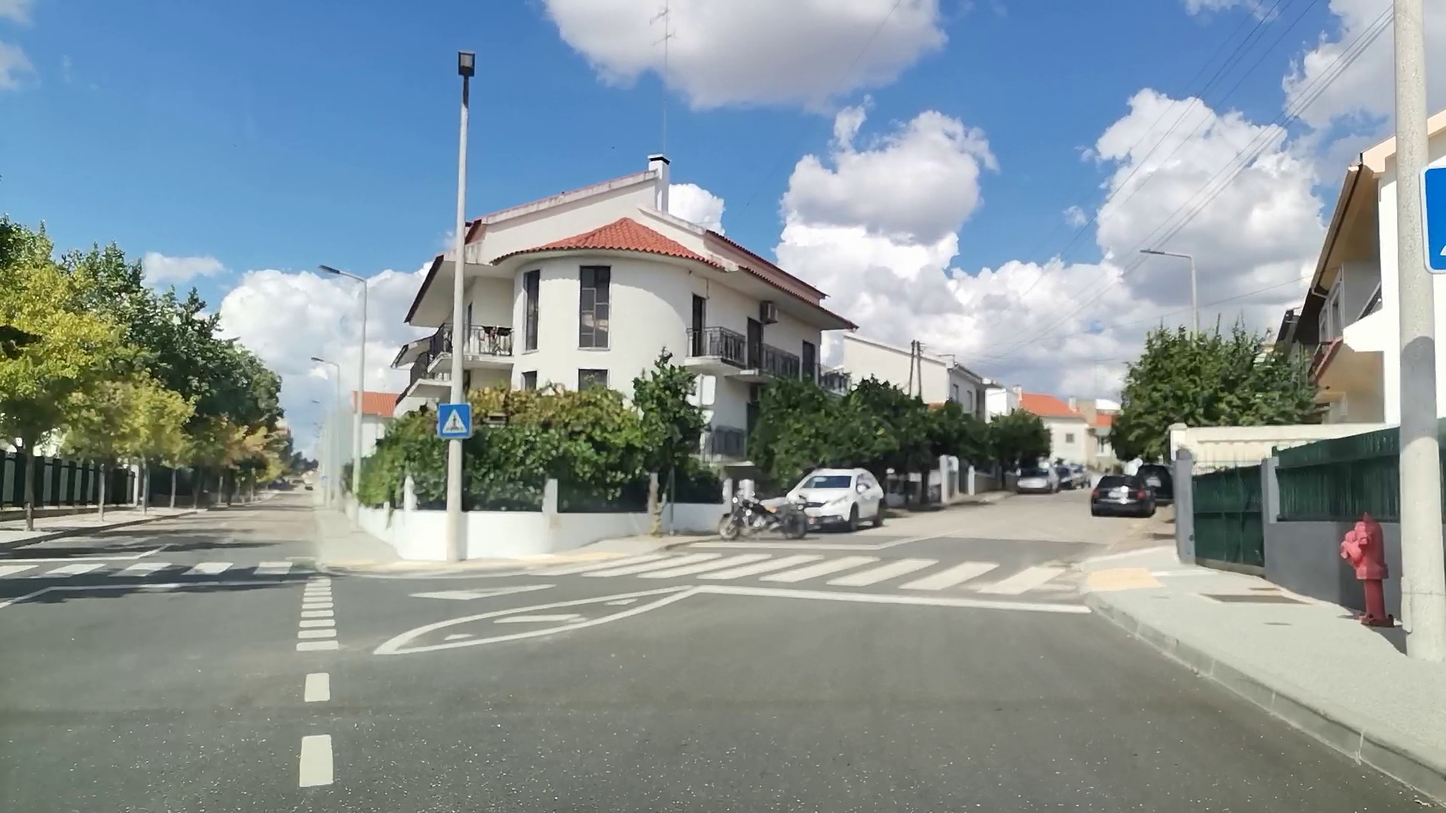Stairs: (551, 555, 1071, 597), (0, 562, 294, 577)
